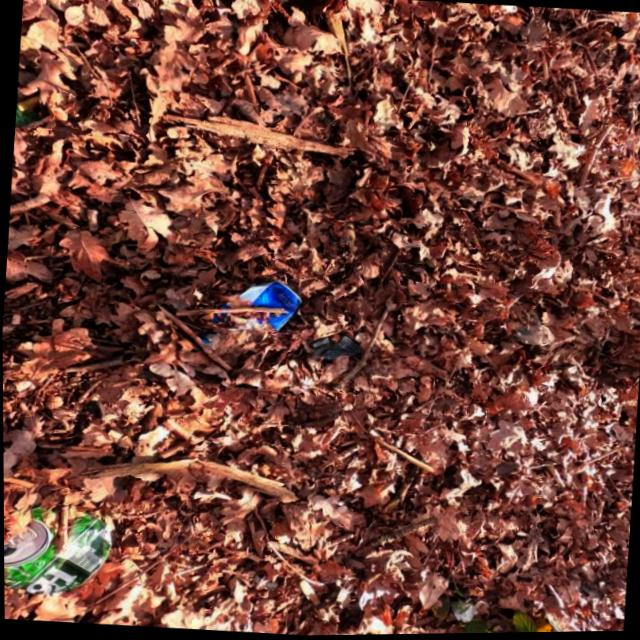Can-Metal: (3, 487, 114, 601), (186, 272, 306, 357)
